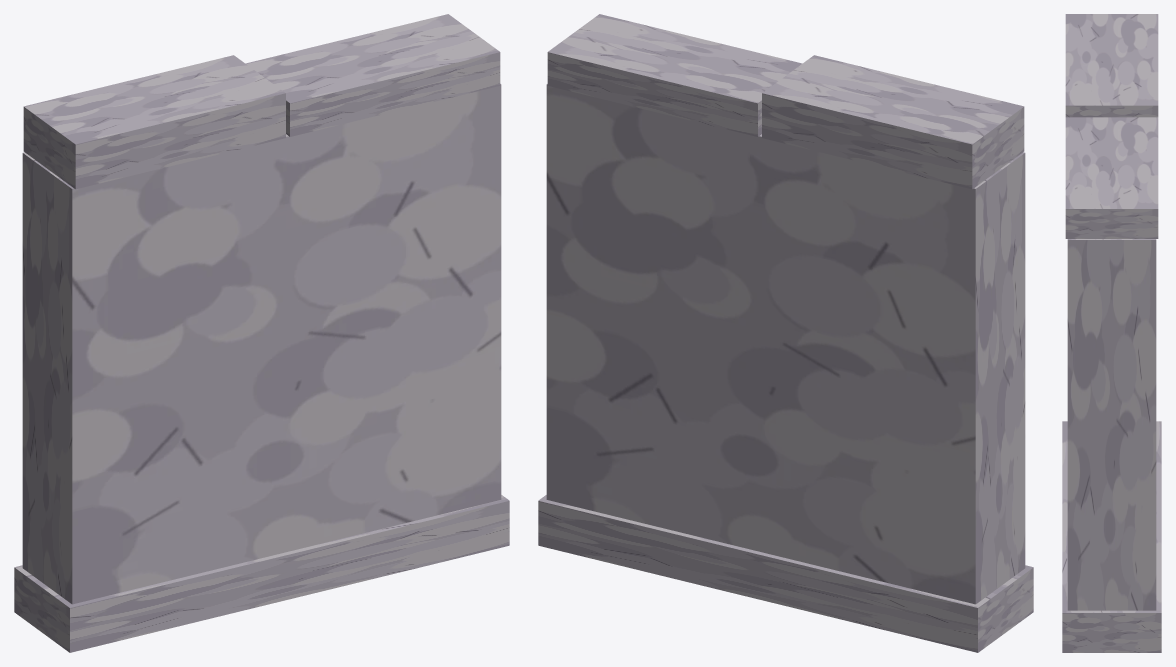
File: wall.glb
3 renders of one model, left to right at view 1: azimuth 30°, elevation 25°; view 2: azimuth 150°, elevation 25°; view 3: azimuth 270°, elevation 25°, orthographic. The views are drawn at different scales.
Visible parts, largest first — view 1: wall; view 2: wall; view 3: wall.
Boxes of the visible parts, x1=… form: wall: x1=14, y1=14, x2=509, y2=652; wall: x1=538, y1=14, x2=1033, y2=652; wall: x1=1062, y1=14, x2=1161, y2=652.
Size of the model in its own units: 4.1 by 4.5 by 0.9.
1 material, 1 textured.
